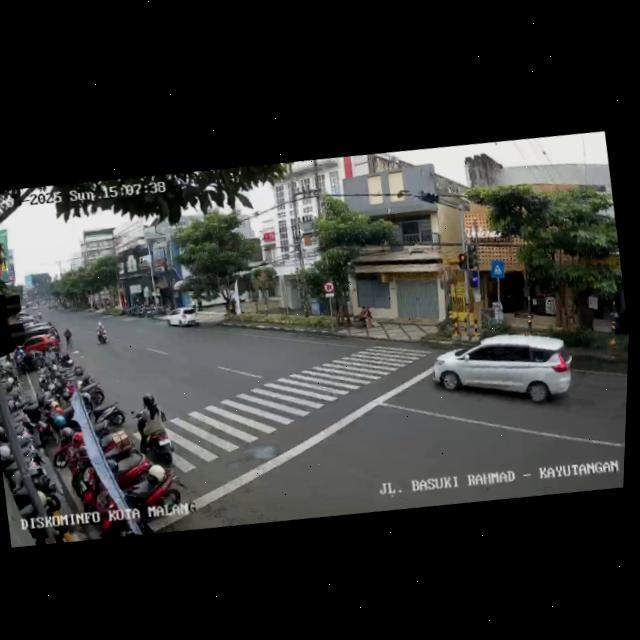car: (427, 319, 579, 423), (17, 317, 63, 363), (164, 299, 201, 333)
motorcycle: (133, 392, 178, 469), (91, 316, 112, 348)
